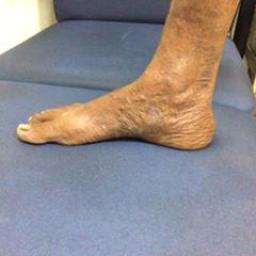Medial View -Right Foot-: (12, 42, 230, 165)
